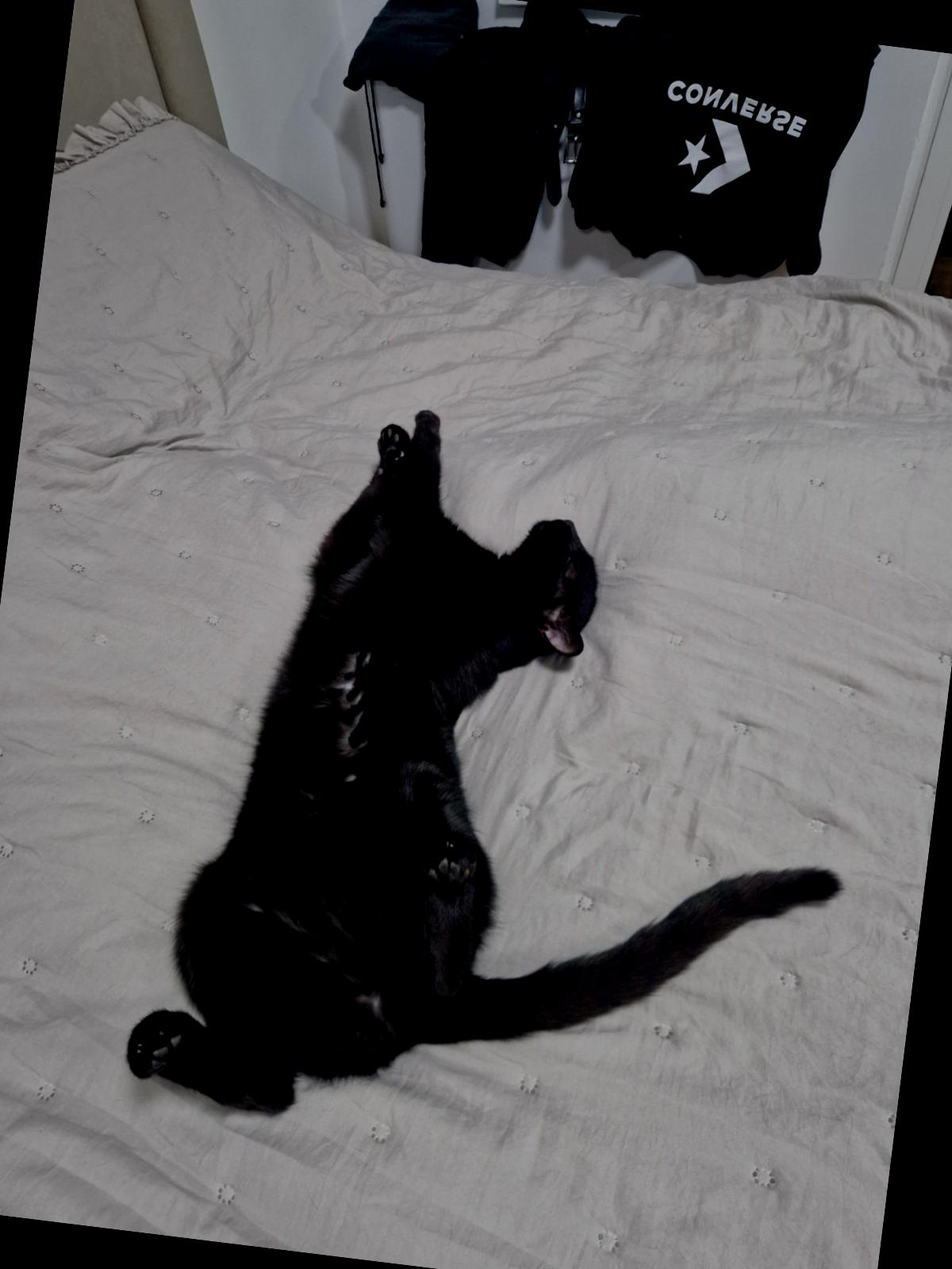macka: (120, 376, 908, 1188)
